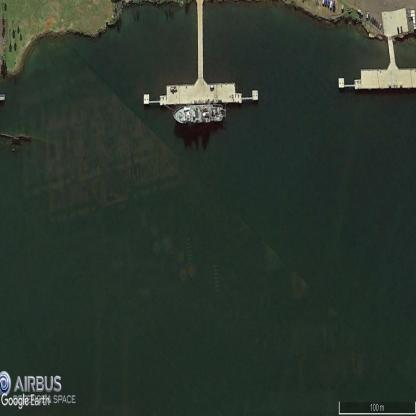ship: (174, 104, 226, 123)
